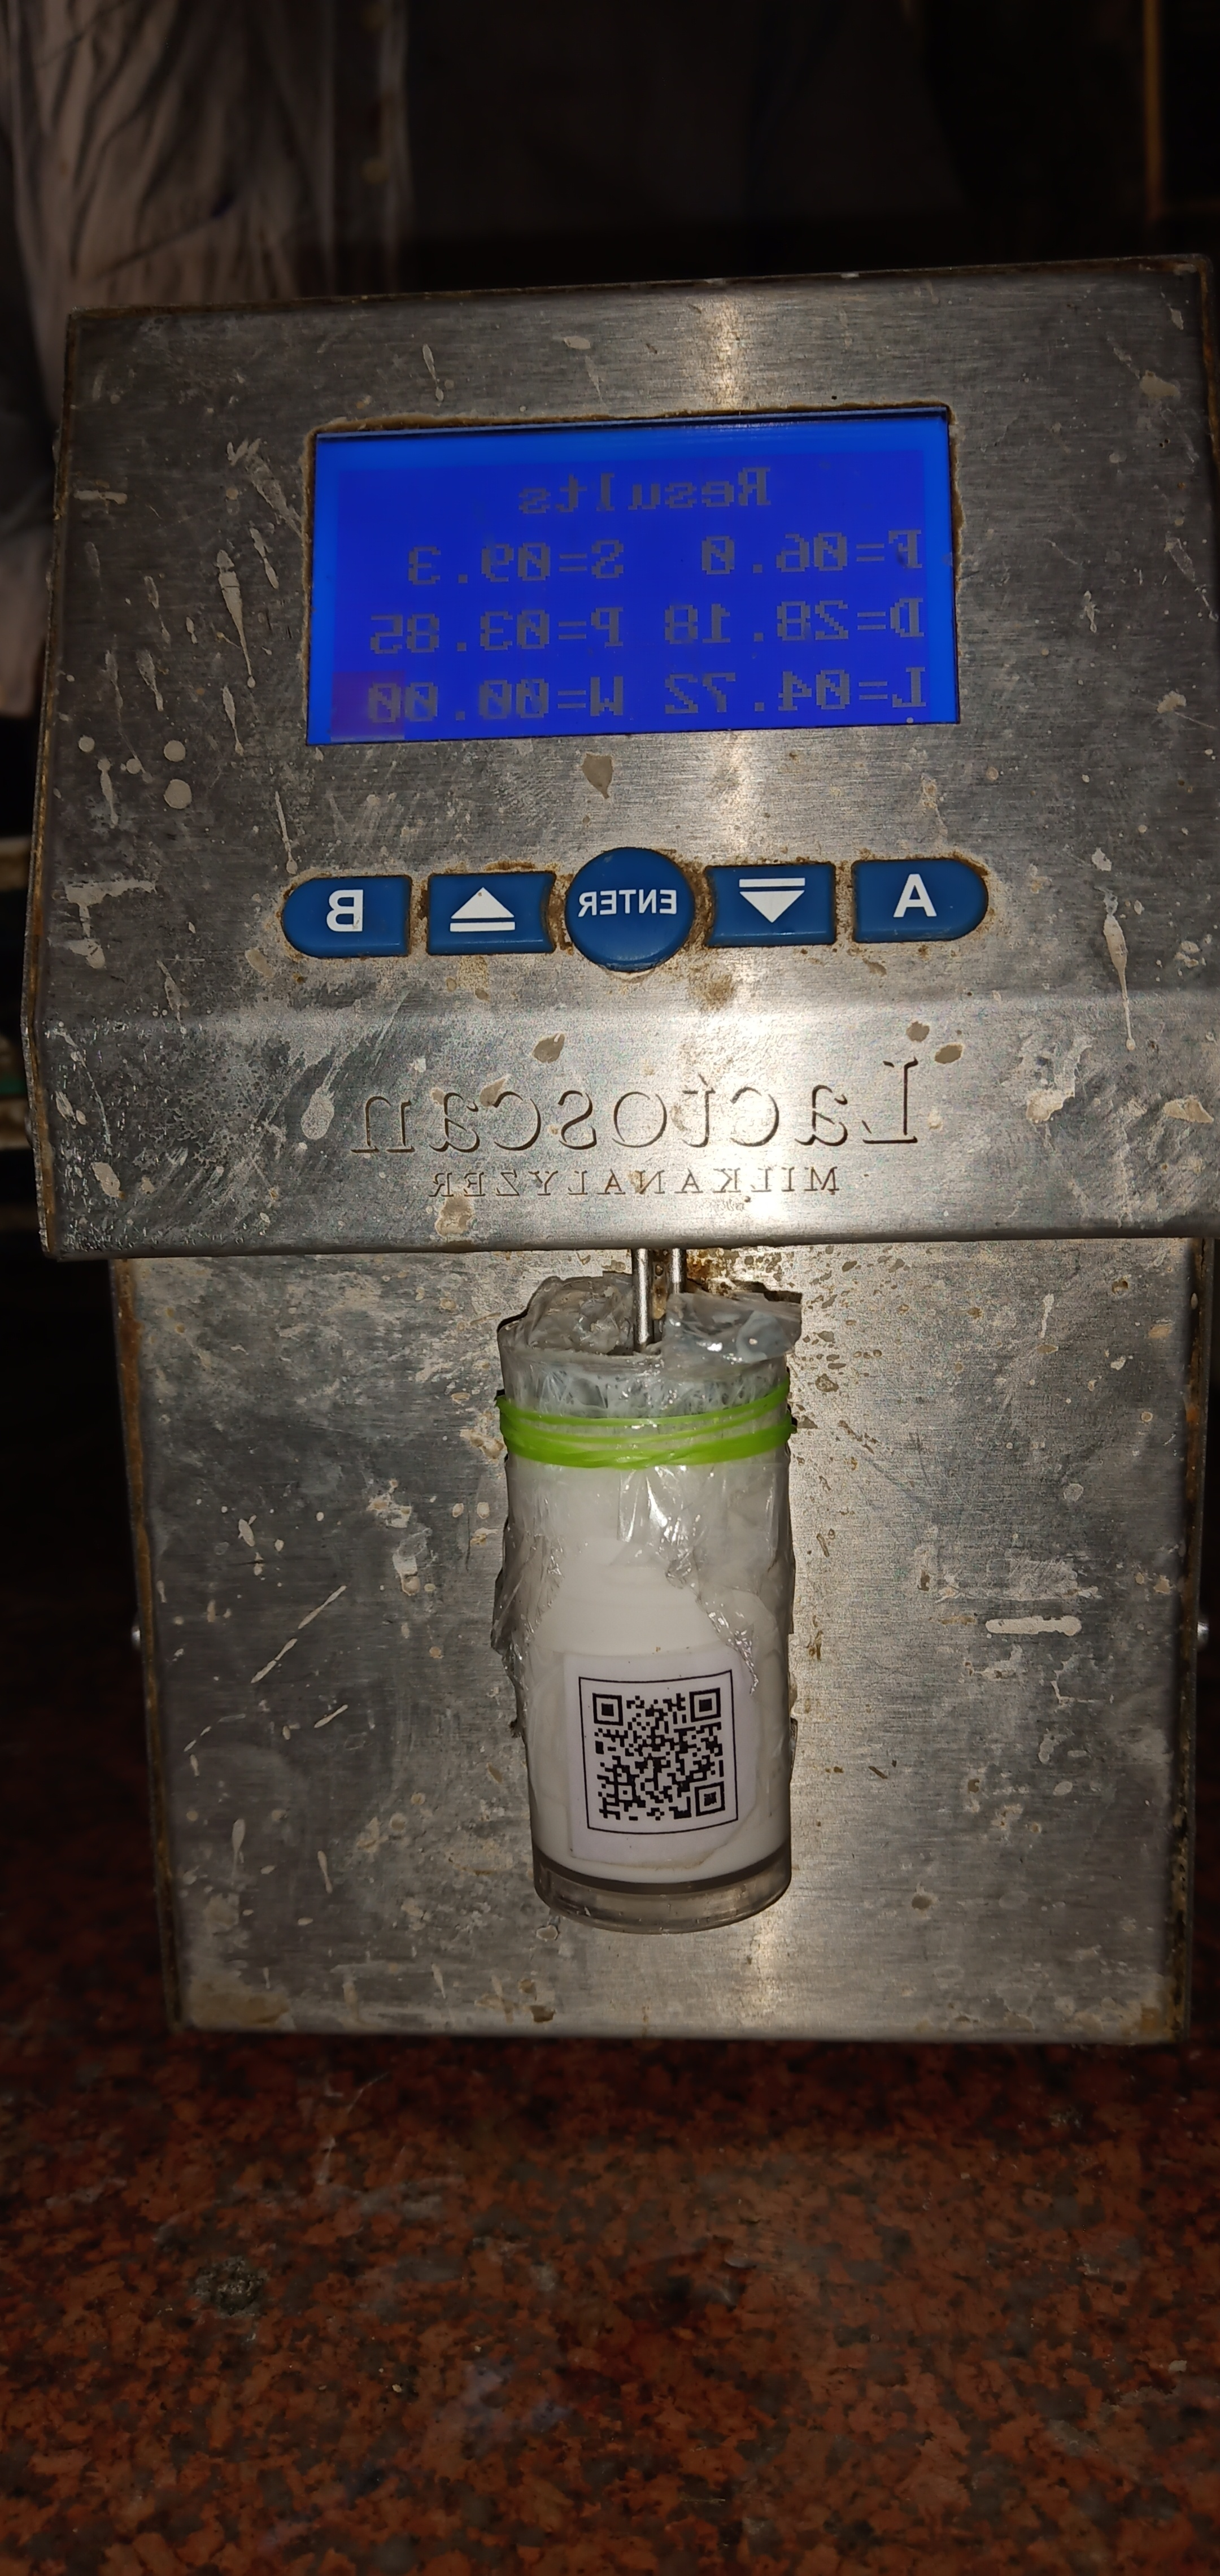lcd: (297, 379, 1011, 779)
qr: (563, 1651, 770, 1868)
